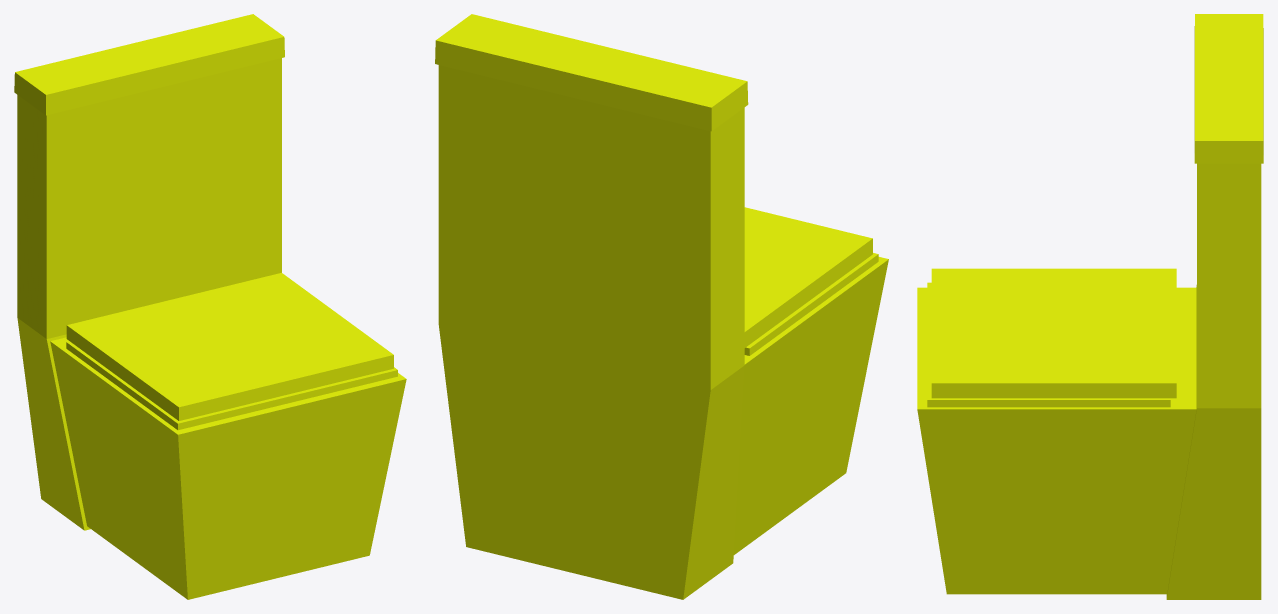
File: Toilet2.FBX
The picture shows the model from 3 angles, left to right: view 1: azimuth 30°, elevation 25°; view 2: azimuth 150°, elevation 25°; view 3: azimuth 270°, elevation 25°; orthographic projection. The views are drawn at different scales.
Parts seen in each view (by area): view 1: Box009; view 2: Box009; view 3: Box009.
Part boxes in pixels (bbox=[...]): Box009: bbox=[14, 14, 406, 599]; Box009: bbox=[435, 14, 888, 599]; Box009: bbox=[917, 14, 1263, 599].
Size of the model in its own units: 0.8444 by 1.46 by 0.9694.
